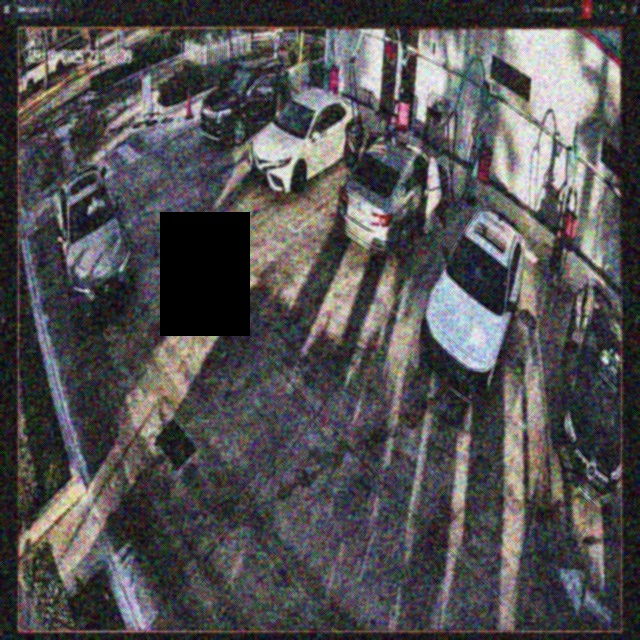Car: (419, 208, 525, 403), (338, 135, 446, 254), (252, 90, 360, 188), (199, 56, 291, 148)
